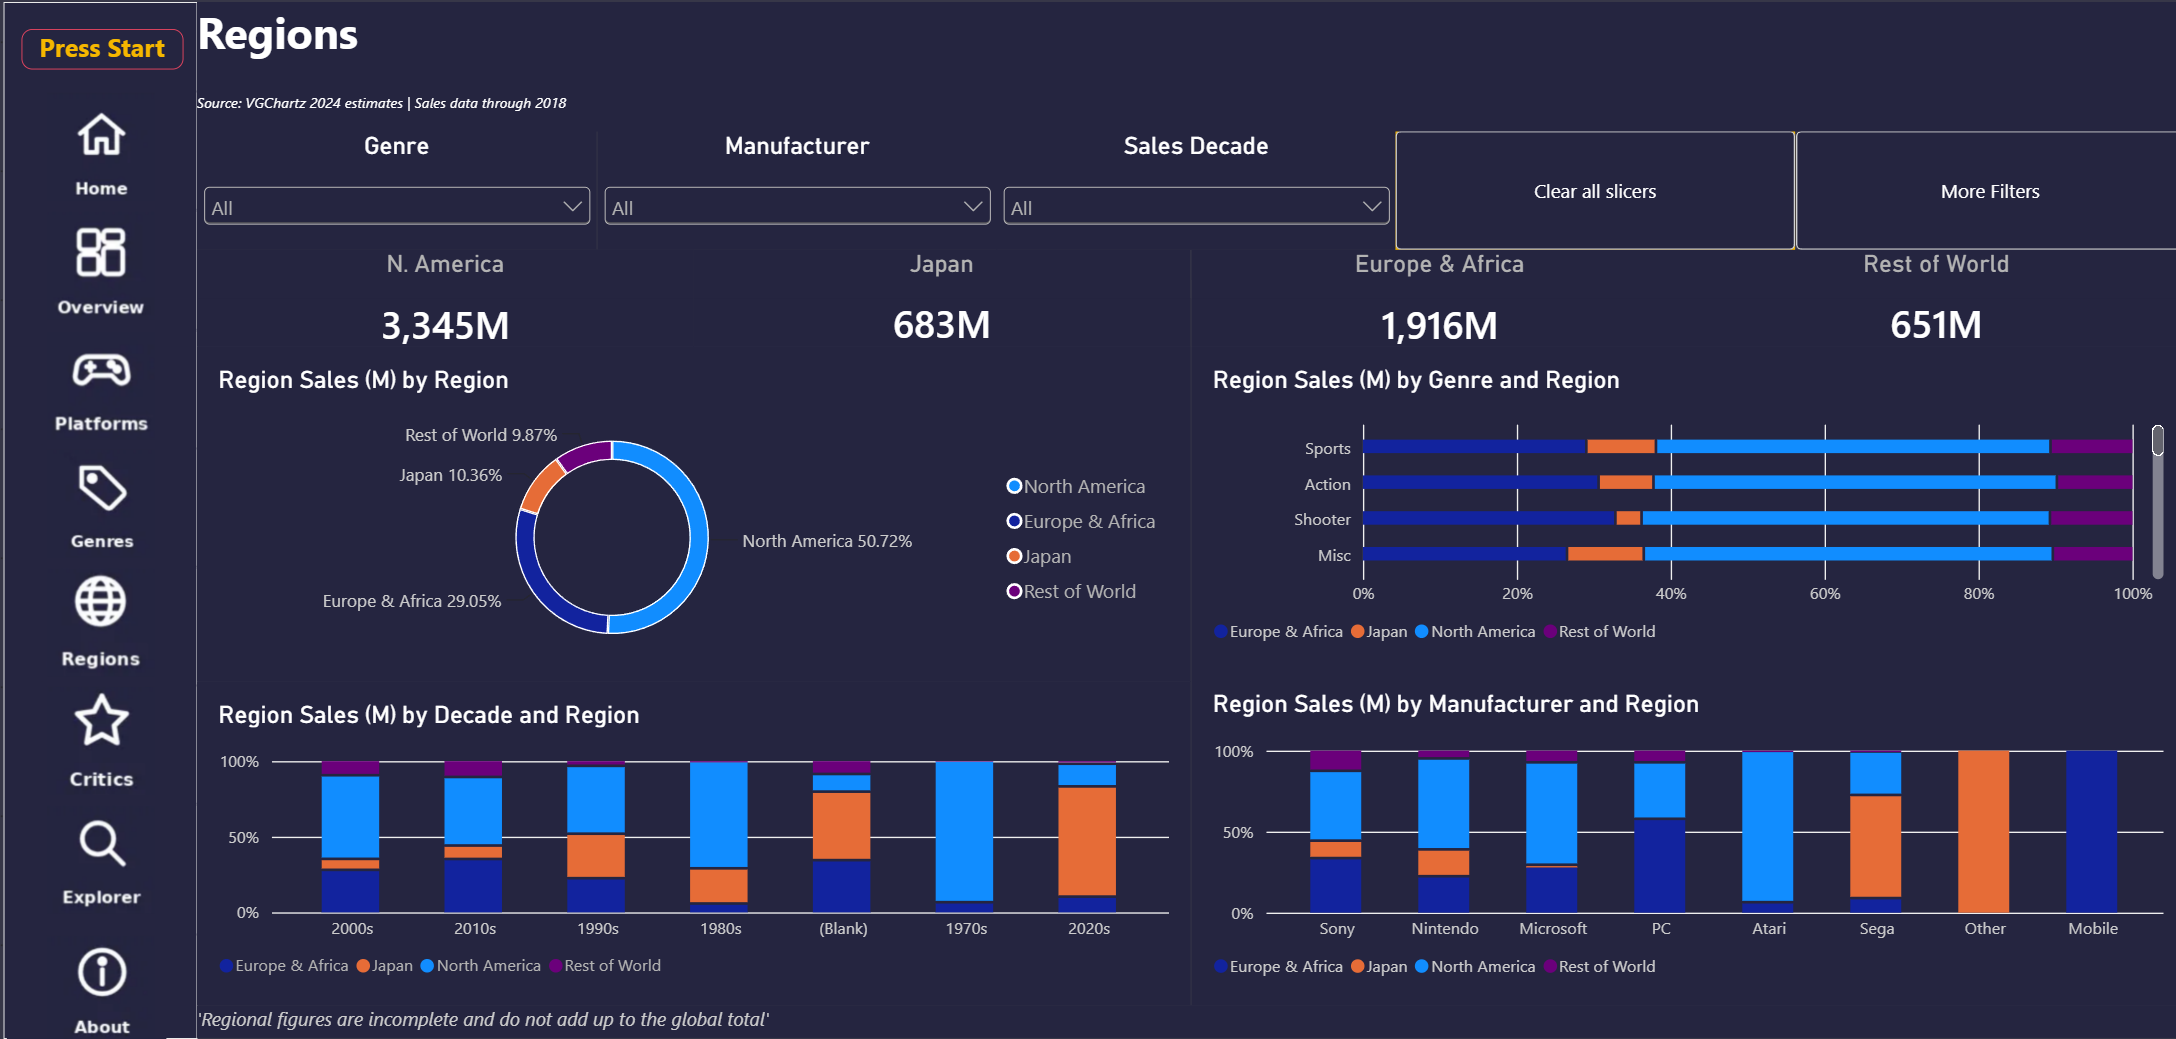

This screenshot's page, from the dashboard's own definition file:
{"tool":"powerbi","page":{"name":"Regions","canvas":[1920,1080],"ordinal":4},"visuals":[{"type":"shape","box":[34,66.3,144,768],"z":0},{"type":"textbox","box":[48,86.3,120,30],"z":1000},{"type":"textbox","box":[178,130.3,1472,32],"z":1000,"group":"g1"},{"type":"textbox","box":[178,66.3,1472,64],"z":2000},{"type":"cardVisual","title":"N. America","fields":{"Data":["Games.Region Sales Label"]},"box":[178,250.3,368,72],"z":3000},{"type":"cardVisual","title":"Japan","fields":{"Data":["Games.Region Sales Label"]},"box":[546,250.3,368,72],"z":4000},{"type":"cardVisual","title":"Europe & Africa","fields":{"Data":["Games.Region Sales Label"]},"box":[914,250.3,368,72],"z":5000},{"type":"cardVisual","title":"Rest of World","fields":{"Data":["Games.Region Sales Label"]},"box":[1282,250.3,368,72],"z":6000},{"type":"donutChart","fields":{"Category":["Region_Sales.region"],"Y":["Games.Region Sales (M)"]},"box":[178,322.3,736,248],"z":7000},{"type":"hundredPercentStackedBarChart","fields":{"Category":["Games.Genre"],"Series":["Region_Sales.region"],"Y":["Games.Region Sales (M)"]},"box":[914,322.3,736,240],"z":8000},{"type":"hundredPercentStackedColumnChart","fields":{"Category":["Games.sales_decade"],"Series":["Region_Sales.region"],"Y":["Games.Region Sales (M)"]},"box":[178,570.3,736,240],"z":9000},{"type":"hundredPercentStackedColumnChart","fields":{"Category":["Console_Map.Manufacturer"],"Series":["Region_Sales.region"],"Y":["Games.Region Sales (M)"]},"box":[914,562.3,736,248],"z":10000},{"type":"textbox","box":[178,810.3,1472,24],"z":11000},{"type":"actionButton","box":[34,130.3,144,88],"z":13000},{"type":"actionButton","box":[34,306.3,144,88],"z":14000},{"type":"actionButton","box":[34,218.3,144,88],"z":15000},{"type":"actionButton","box":[34,394.3,144,88],"z":16000},{"type":"actionButton","box":[34,482.3,144,88],"z":17000},{"type":"actionButton","box":[34,570.3,144,88],"z":18000},{"type":"actionButton","box":[34,658.3,144,88],"z":19000},{"type":"actionButton","box":[34,754.3,144,88],"z":20000},{"type":"slicer","title":"Genre","fields":{"Values":["Games.Genre"]},"box":[178,162.3,296,88],"z":21000},{"type":"slicer","title":"Manufacturer","fields":{"Values":["Console_Map.Manufacturer"]},"box":[474,162.3,296,88],"z":22000},{"type":"slicer","title":"Sales Decade","fields":{"Values":["Games.sales_decade"]},"box":[770,162.3,296,88],"z":23000},{"type":"actionButton","box":[1066,162.3,296,88],"z":24000},{"type":"actionButton","box":[1362,162.3,288,88],"z":25000},{"type":"group","id":"g1","title":"Group 1","box":[178,130.3,1472,32],"z":26000}]}

Visuals, with their boxes on the page's 1920x1080 design canvas (x1, y1, x2, y2). These are canvas units, not pixel positions in the 2176x1039 screenshot, which may show the page scaled, cropped or inside an application window:
shape: region(34, 66, 178, 834)
textbox: region(48, 86, 168, 116)
textbox: region(178, 130, 1650, 162)
textbox: region(178, 66, 1650, 130)
"N. America" cardVisual: region(178, 250, 546, 322)
"Japan" cardVisual: region(546, 250, 914, 322)
"Europe & Africa" cardVisual: region(914, 250, 1282, 322)
"Rest of World" cardVisual: region(1282, 250, 1650, 322)
donutChart - Region_Sales.region x Games.Region Sales (M): region(178, 322, 914, 570)
hundredPercentStackedBarChart - Games.Genre x Region_Sales.region: region(914, 322, 1650, 562)
hundredPercentStackedColumnChart - Games.sales_decade x Region_Sales.region: region(178, 570, 914, 810)
hundredPercentStackedColumnChart - Console_Map.Manufacturer x Region_Sales.region: region(914, 562, 1650, 810)
textbox: region(178, 810, 1650, 834)
actionButton: region(34, 130, 178, 218)
actionButton: region(34, 306, 178, 394)
actionButton: region(34, 218, 178, 306)
actionButton: region(34, 394, 178, 482)
actionButton: region(34, 482, 178, 570)
actionButton: region(34, 570, 178, 658)
actionButton: region(34, 658, 178, 746)
actionButton: region(34, 754, 178, 842)
"Genre" slicer: region(178, 162, 474, 250)
"Manufacturer" slicer: region(474, 162, 770, 250)
"Sales Decade" slicer: region(770, 162, 1066, 250)
actionButton: region(1066, 162, 1362, 250)
actionButton: region(1362, 162, 1650, 250)
"Group 1" group: region(178, 130, 1650, 162)
